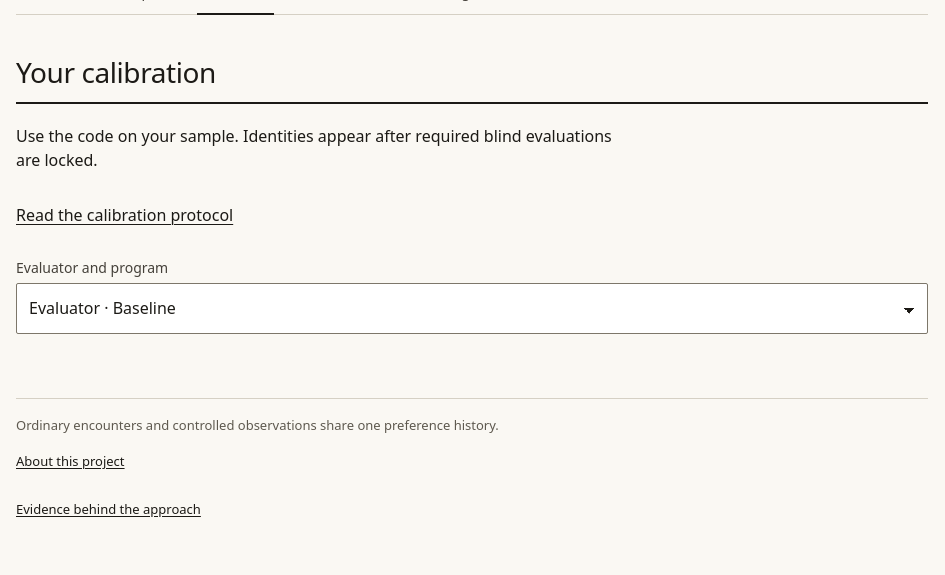
Test case: Revealed sample › renders no attribution when perfumers is empty
Select "Evaluator · Baseline" in the dropdown labelled "Evaluator and program": (472, 308) [16, 283, 928, 334]
(page scrolled)
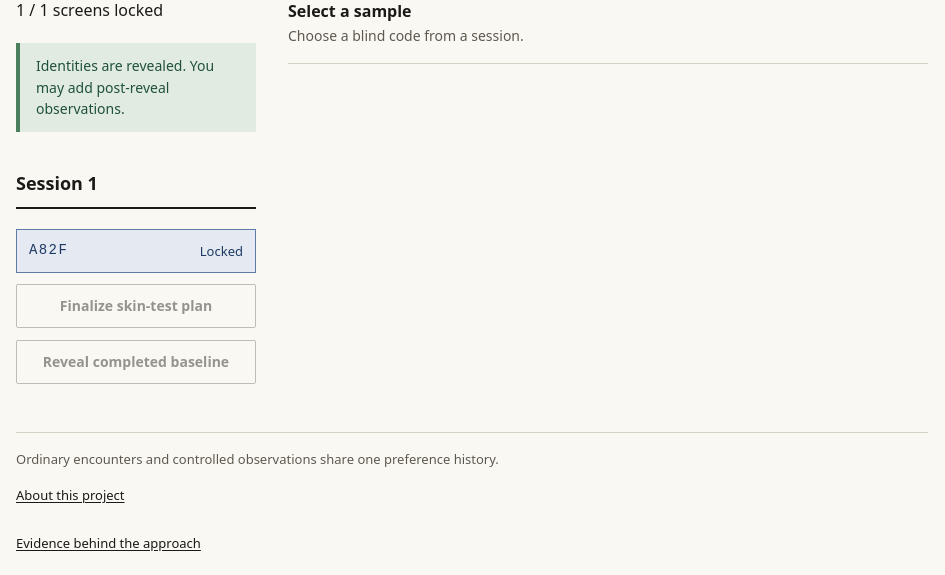
Click the button "A82F Locked": (136, 251) [16, 229, 256, 273]
(page scrolled)
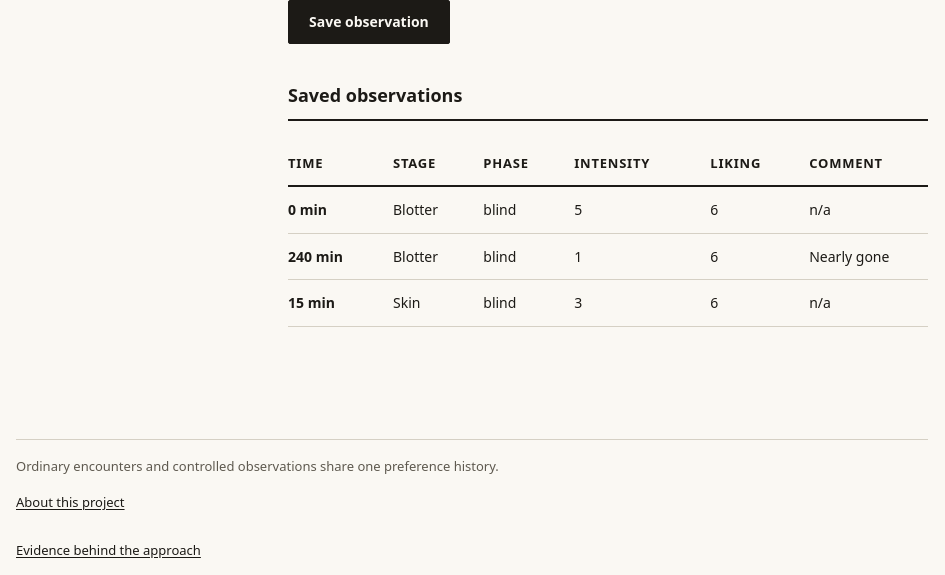
expect the table is shown: met, box [288, 141, 928, 327]
